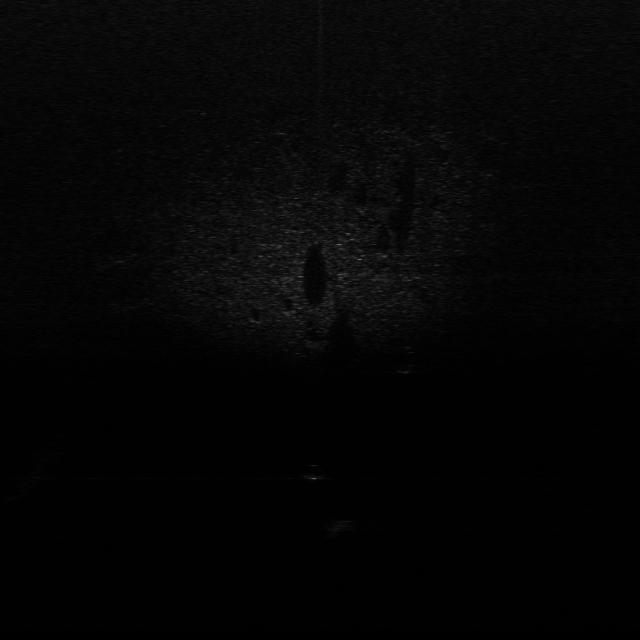ball: (298, 460, 332, 483)
square cage: (321, 515, 357, 537)
tyre: (394, 344, 417, 374)
